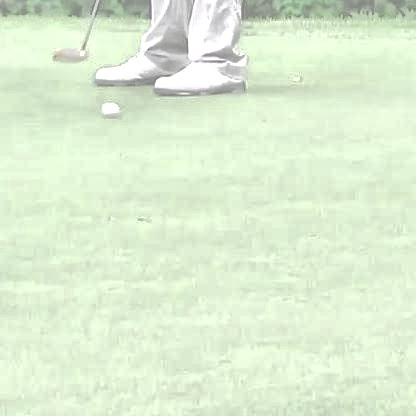golfball: (98, 98, 118, 116)
